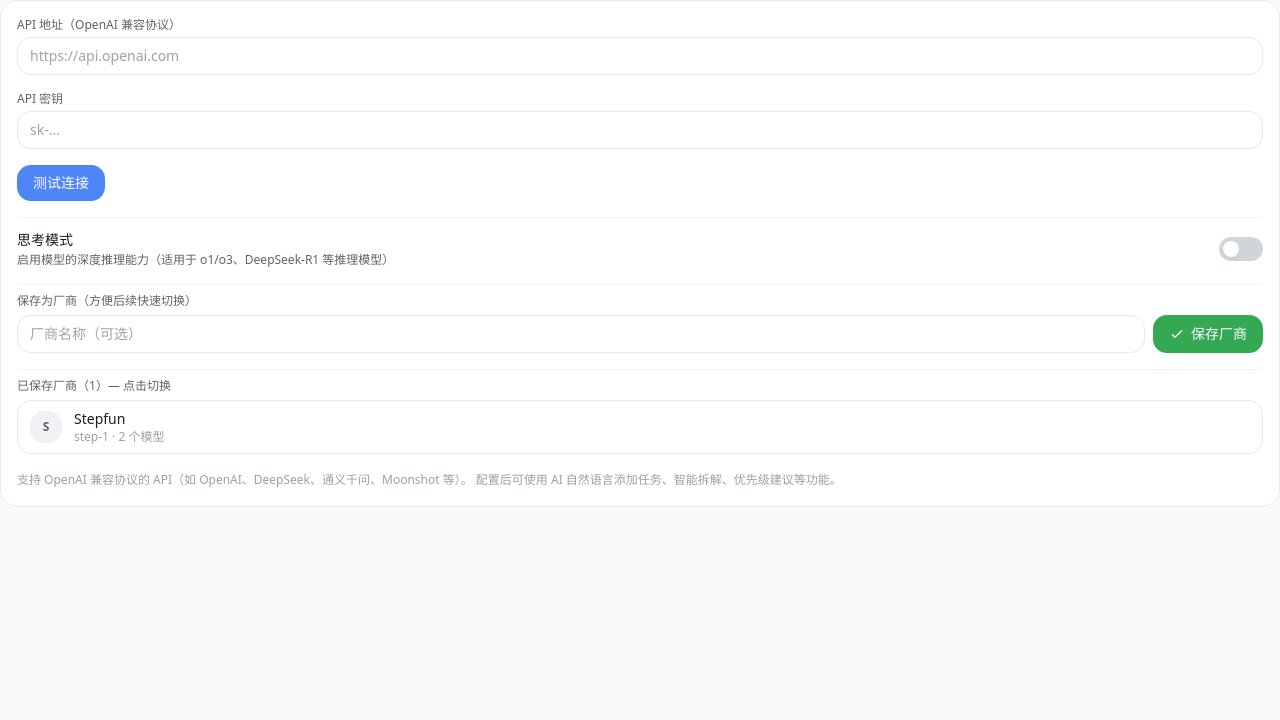
Test: LLMApiPanel - 选择无 key 厂商不激活 › 厂商级 secret 为空时，点击不激活并显示错误
#  点击已保存厂商
What coordinates should you click on to do the following:
click the text "Stepfun"
I would click on:
 (100, 418)
Its box is 74,409 -> 125,428.
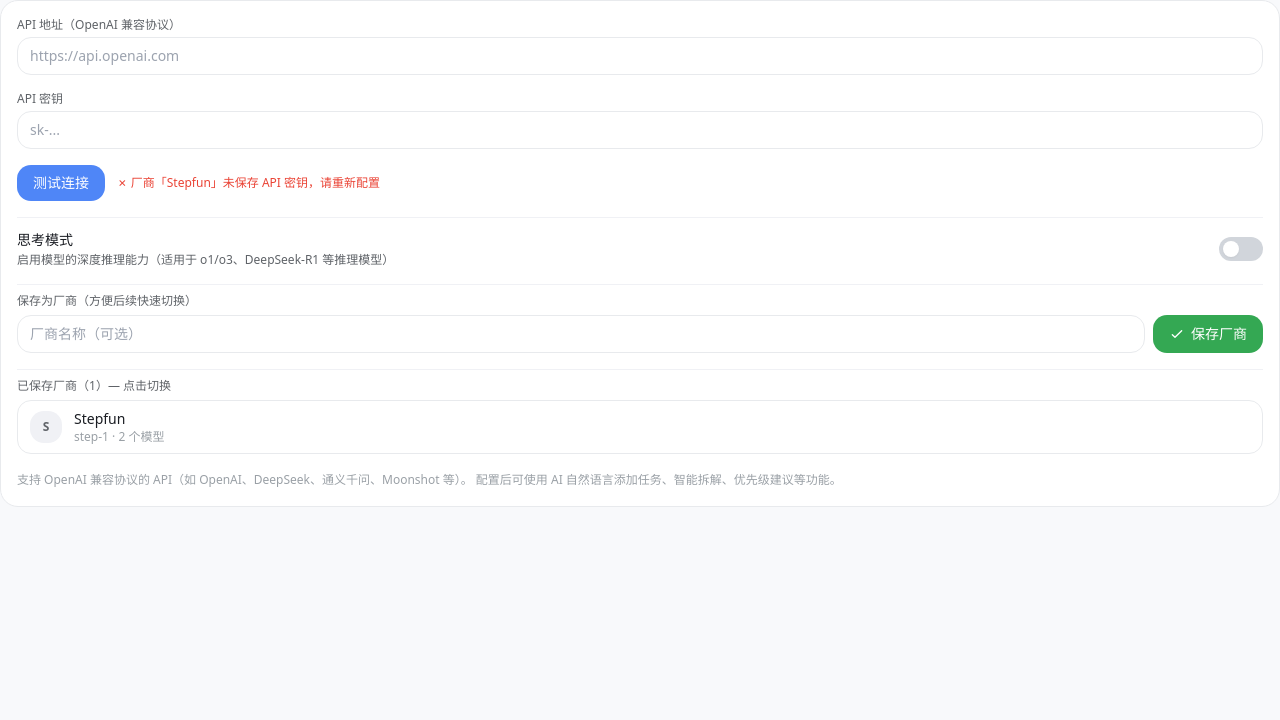
Expected: the text "✗ 厂商「Stepfun」未保存 API 密钥，请重新配置" is shown, 117,175 -> 380,191
